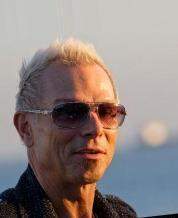face: (55, 101, 113, 161)
